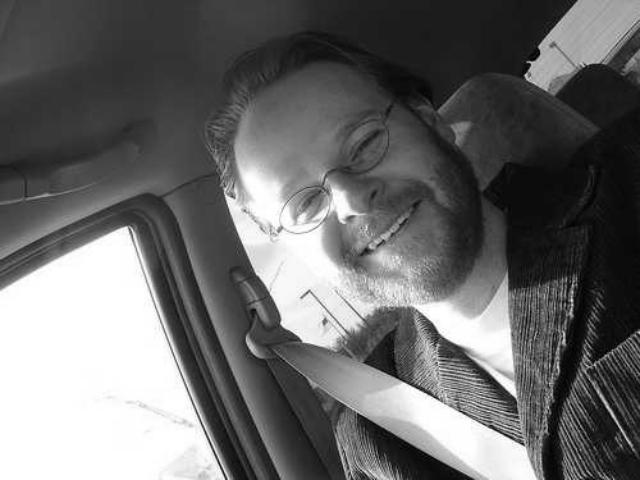Seatbelt: (228, 264, 542, 480)
